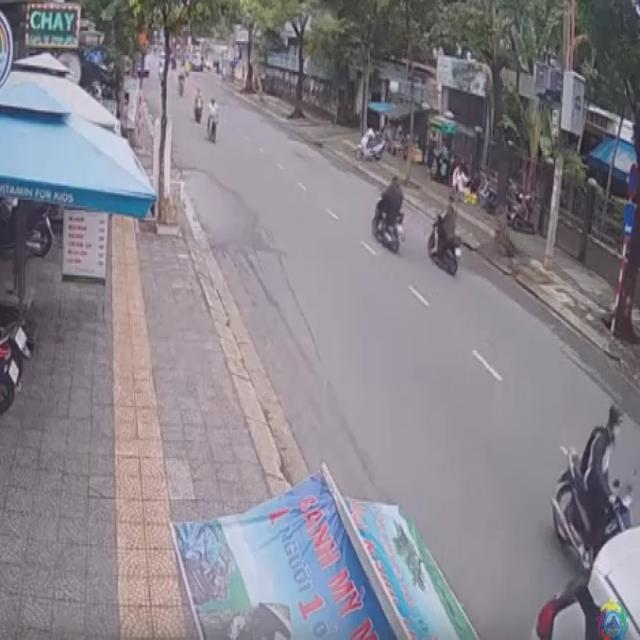motorbike: (554, 400, 635, 570), (429, 192, 463, 286), (373, 175, 402, 253), (207, 100, 221, 144)
